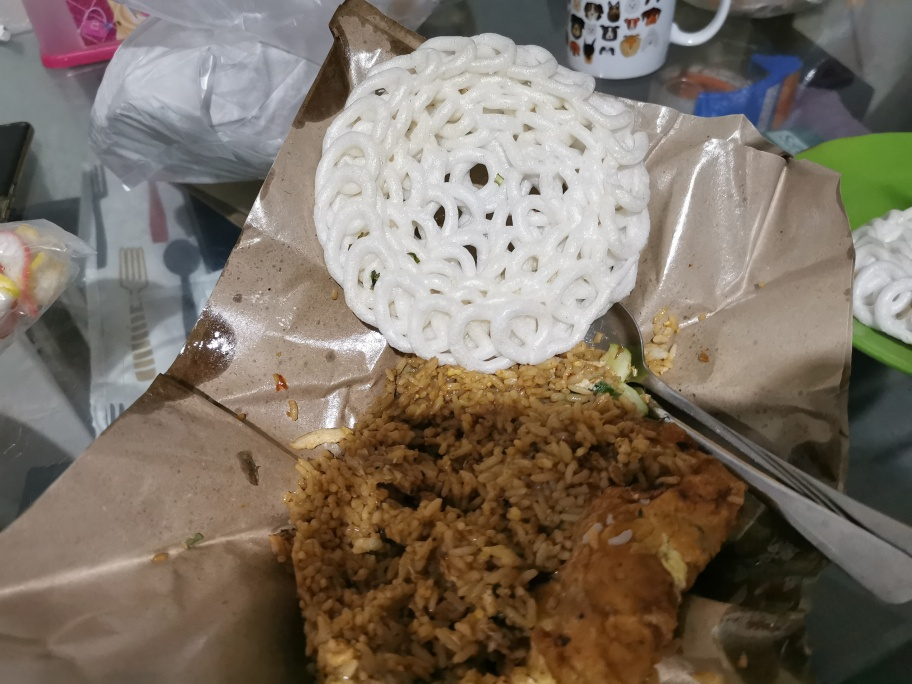kerupuk: (317, 36, 652, 360)
nasi goreng: (293, 357, 743, 683)
